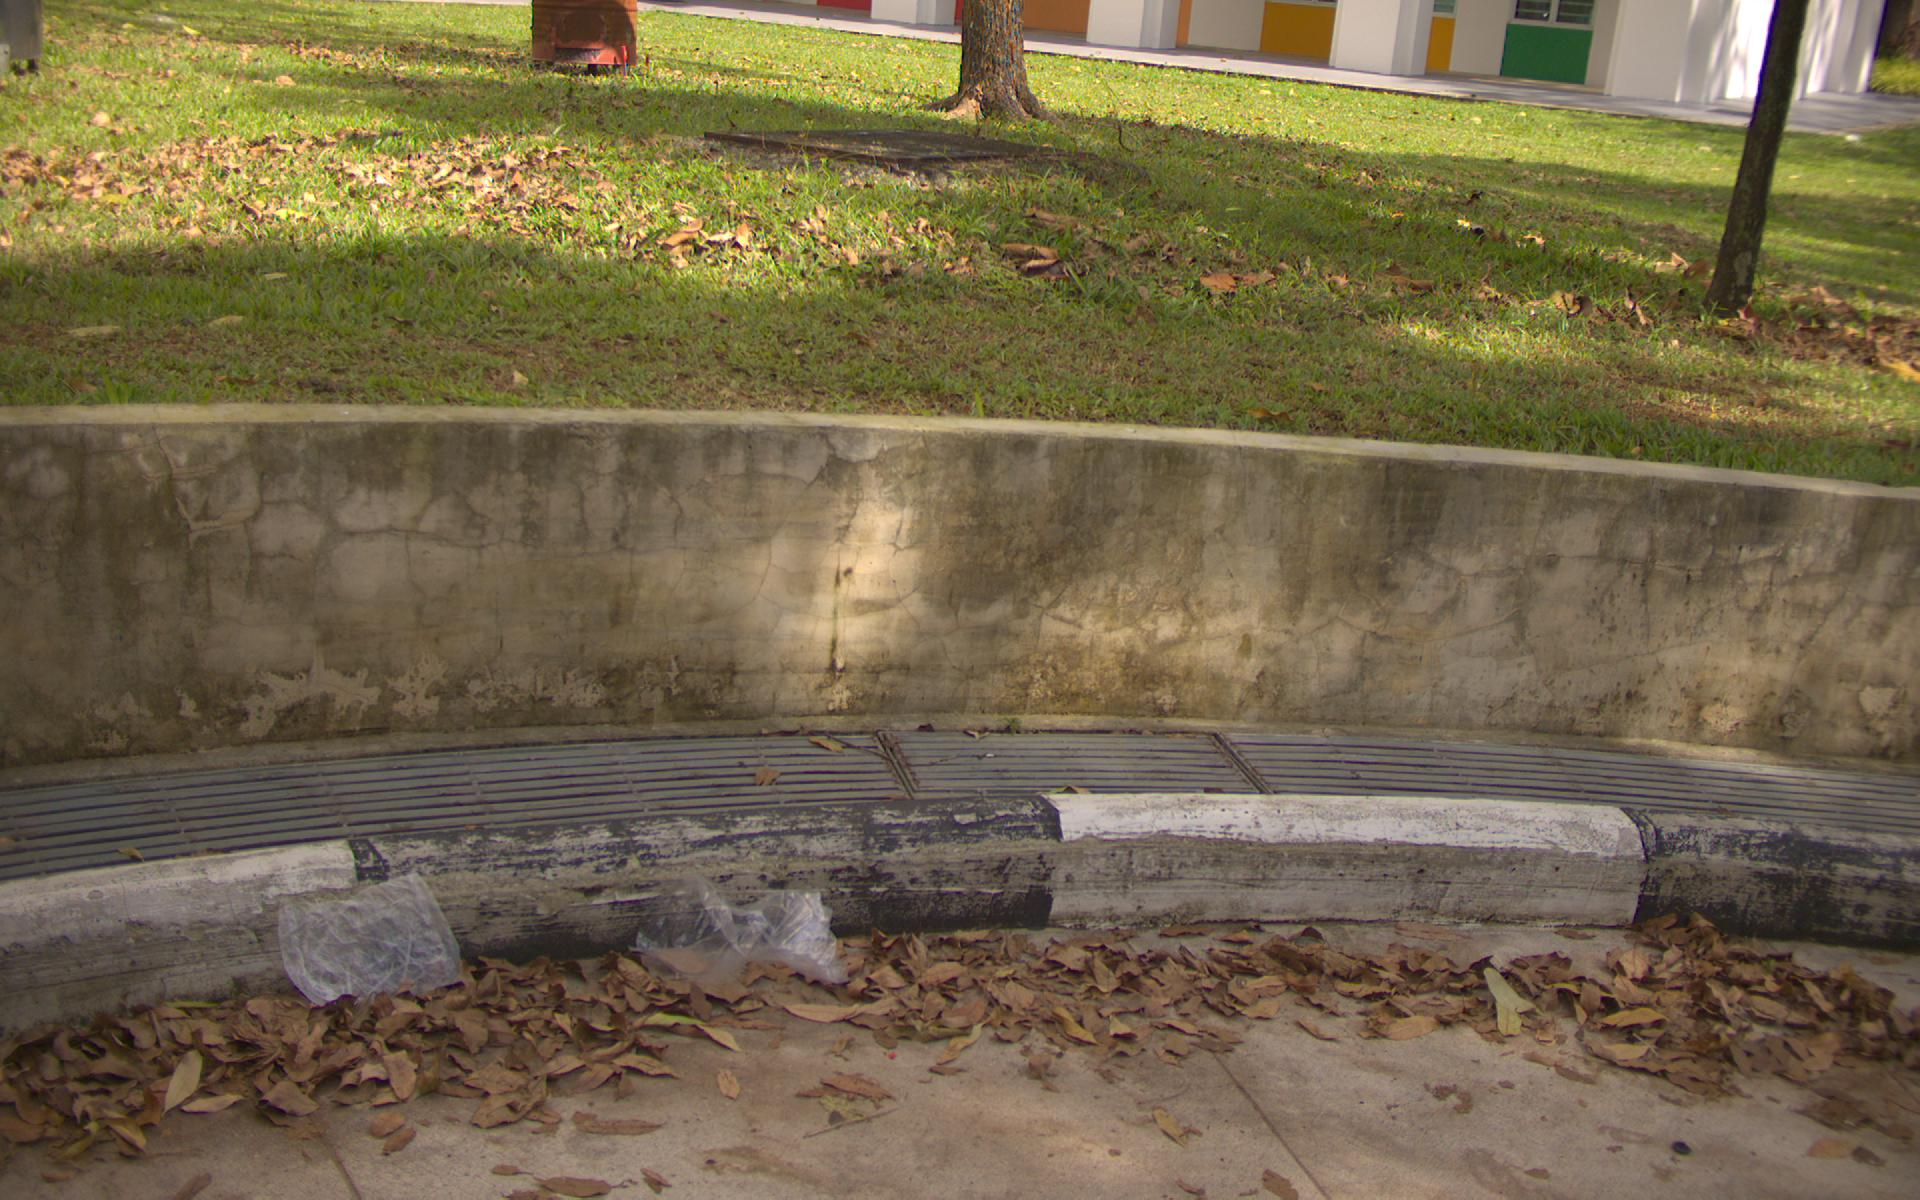curb_grill_low: (15, 730, 1914, 876)
road_curb_medium: (15, 911, 1905, 1192)
road_turf_low: (15, 100, 1903, 465)
